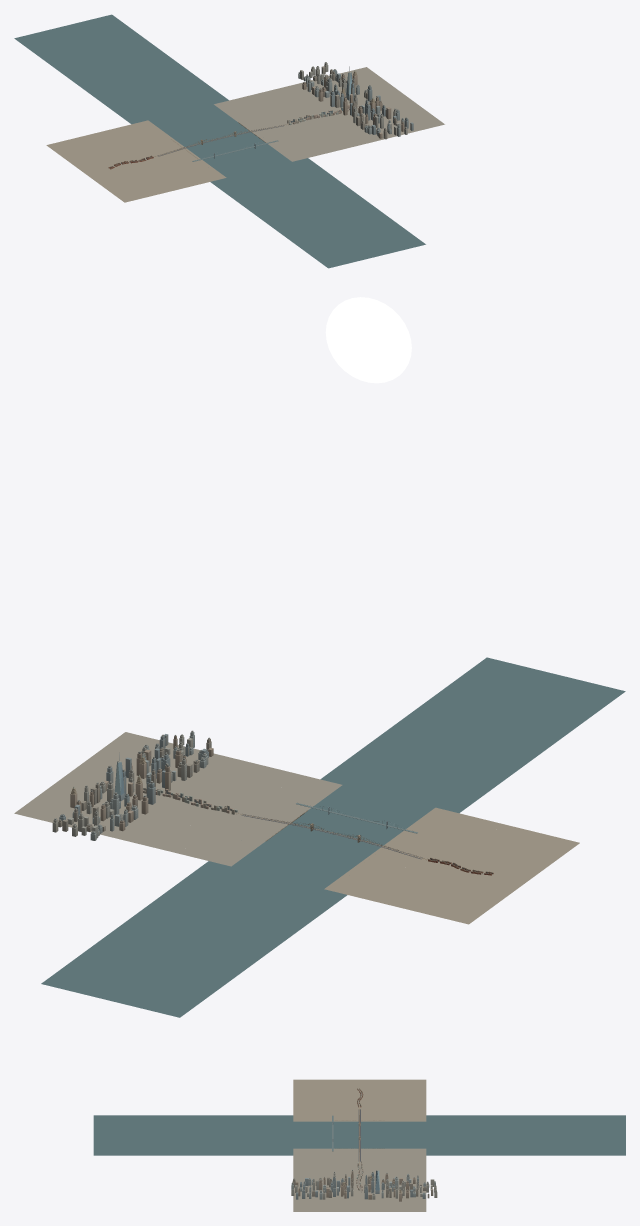
File: brooklyn.glb
3 renders of one model, top to bottom at view 1: azimuth 30°, elevation 25°; view 2: azimuth 150°, elevation 25°; view 3: azimuth 270°, elevation 25°, orthographic. The views are drawn at different scales.
Visible parts, largest first — view 1: Sea, Peaks, Land_000, Land_045, Land_040, Land_019, Land_033, Land_026, Land_032, Land_041, Land_028, Land_027 (+7 smaller); view 2: Sea, Peaks, Sun, Land_000, Land_045, Land_033, Land_026, Land_040, Land_019, Land_032, Land_028, Land_027 (+8 smaller); view 3: Sea, Peaks, Land_045, Land_000, Land_019, Land_032, Land_040, Land_033, Land_026, Land_041, Land_031, Land_028 (+15 smaller).
Boxes of the visible parts, <box> form: Sea: <box>14,14,425,268</box>; Peaks: <box>192,62,413,161</box>; Land_000: <box>46,135,165,202</box>; Land_045: <box>320,67,444,136</box>; Land_040: <box>234,95,329,156</box>; Land_019: <box>237,94,332,155</box>; Land_033: <box>121,123,215,184</box>; Land_026: <box>124,122,219,183</box>; Land_032: <box>104,128,195,188</box>; Land_041: <box>255,91,345,151</box>; Land_028: <box>94,131,181,190</box>; Land_027: <box>111,127,199,186</box>; Sea: <box>41,657,625,1017</box>; Peaks: <box>52,730,417,840</box>; Sun: <box>325,297,411,383</box>; Land_000: <box>411,829,579,924</box>; Land_045: <box>14,732,197,827</box>; Land_033: <box>339,811,473,898</box>; Land_026: <box>334,810,468,897</box>; Land_040: <box>178,772,313,859</box>; Land_019: <box>173,771,308,858</box>; Land_032: <box>368,818,497,904</box>; Land_028: <box>387,823,512,907</box>; Land_027: <box>363,817,488,901</box>; Sea: <box>93,1115,625,1155</box>; Peaks: <box>291,1115,437,1201</box>; Land_045: <box>293,1191,426,1211</box>; Land_000: <box>293,1079,426,1096</box>; Land_019: <box>293,1158,426,1165</box>; Land_032: <box>293,1103,426,1108</box>; Land_040: <box>293,1157,426,1163</box>; Land_033: <box>293,1110,426,1117</box>; Land_026: <box>293,1112,426,1118</box>; Land_041: <box>293,1163,426,1171</box>; Land_031: <box>293,1096,426,1102</box>; Land_028: <box>293,1098,426,1103</box>.
Size of the model in its own units: 5001 by 2656 by 9196.
